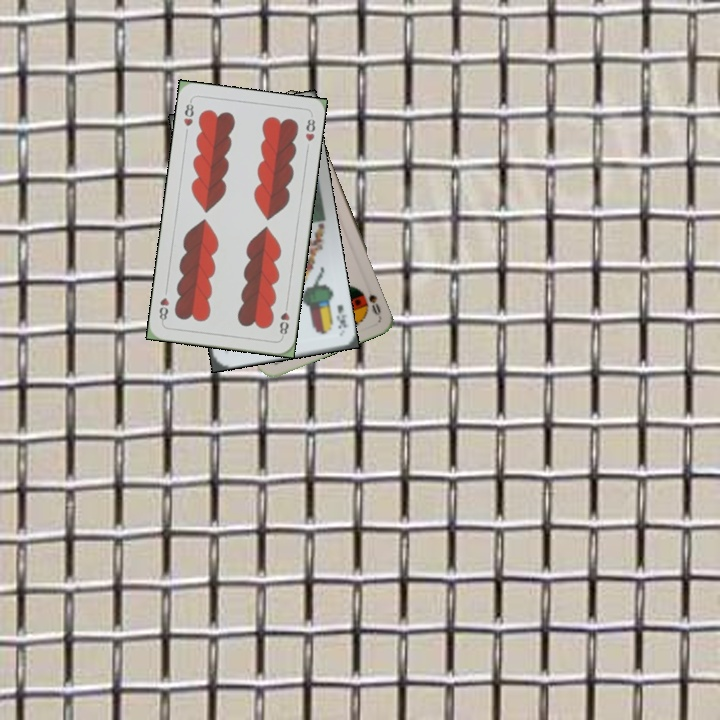EK: (332, 301, 350, 331)
H8: (275, 299, 292, 340), (180, 97, 196, 129)
SO: (364, 290, 383, 318)
